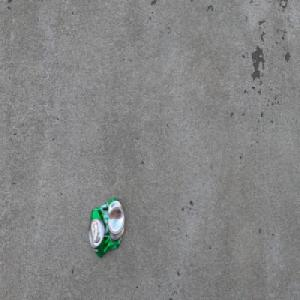SodaCan: (88, 197, 125, 258)
